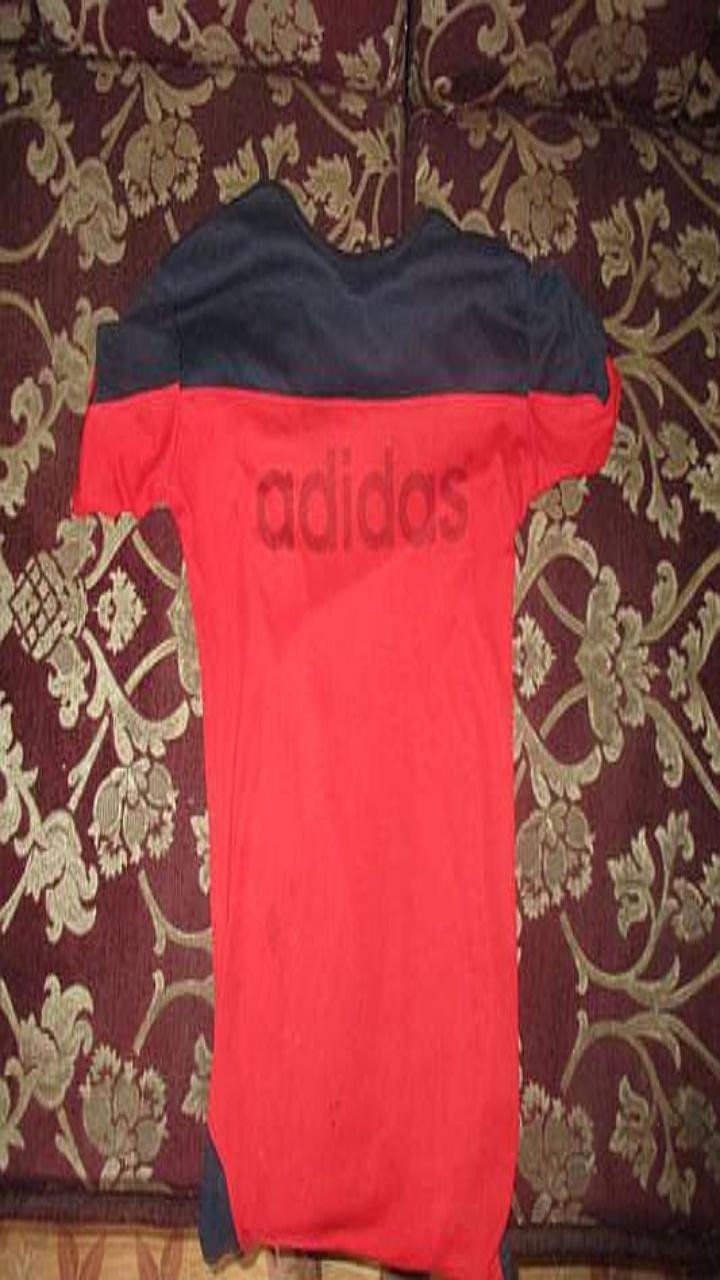T-Shirt: (72, 180, 619, 1279)
